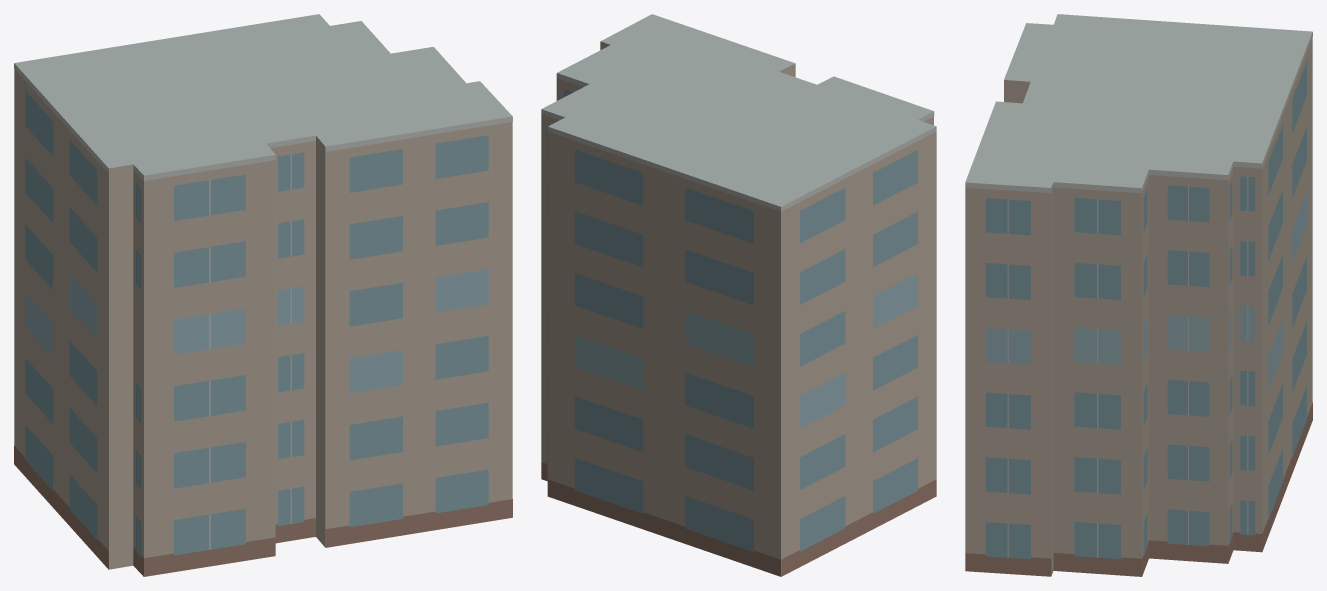
The model's file is survey-upis-32751869.glb.
3 renders of one model, left to right at view 1: azimuth 30°, elevation 25°; view 2: azimuth 150°, elevation 25°; view 3: azimuth 270°, elevation 25°, orthographic. The views are drawn at different scales.
Visible parts, largest first — view 1: survey-upis-32751869.tmp; view 2: survey-upis-32751869.tmp; view 3: survey-upis-32751869.tmp.
Part boxes in pixels (<box>): survey-upis-32751869.tmp: <box>14,14,512,576</box>; survey-upis-32751869.tmp: <box>541,14,936,576</box>; survey-upis-32751869.tmp: <box>965,14,1312,576</box>.
Size of the model in its own units: 17.6 by 18.3 by 14.84.
